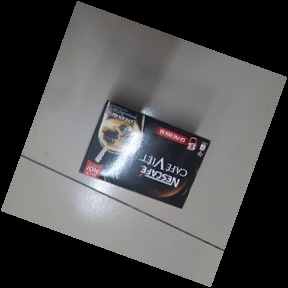CF Viet: (79, 100, 212, 210)
